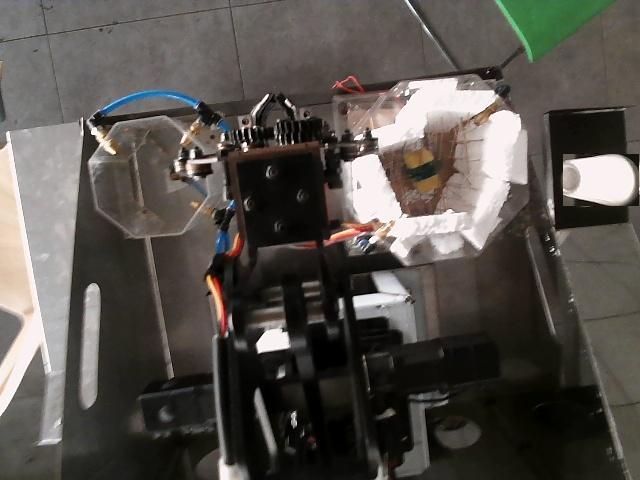cup: (563, 154, 639, 206)
